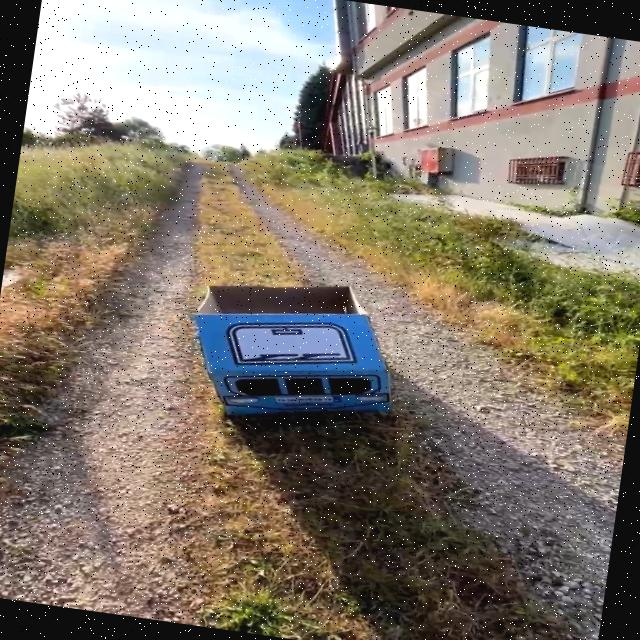blue_car: (139, 248, 451, 463)
